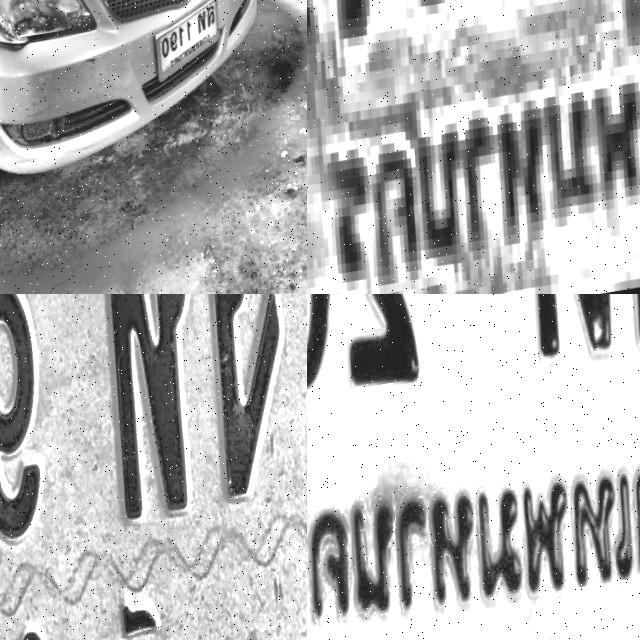license-plate: (307, 294, 640, 640), (0, 294, 307, 640), (307, 0, 640, 294), (149, 0, 238, 87)
